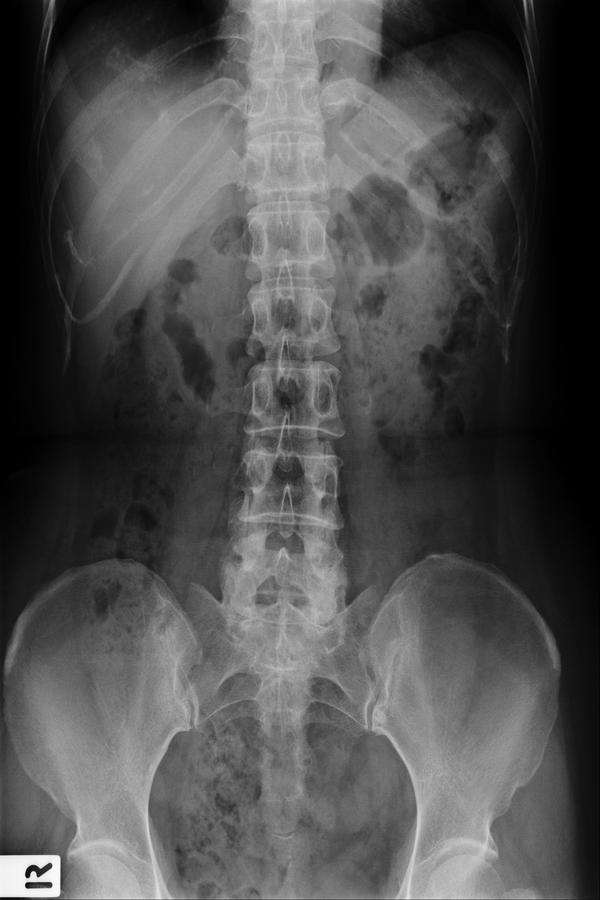lumbar scoliosis: (218, 266, 354, 640)
